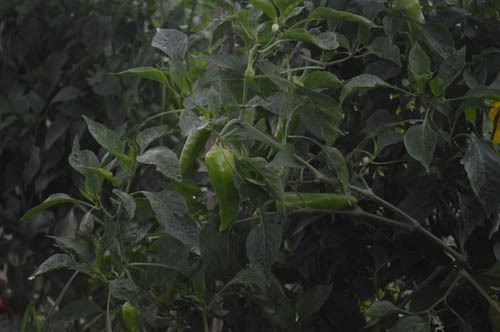ChiliPepper: (210, 151, 238, 231), (280, 190, 354, 217), (178, 125, 208, 177)
